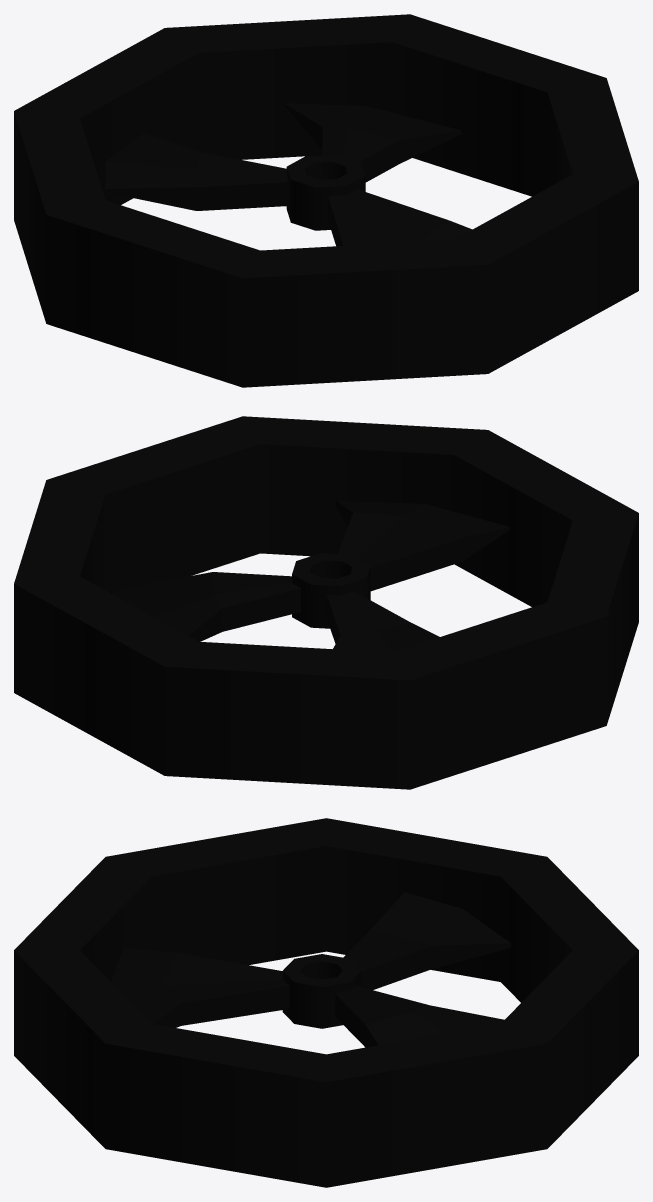
The picture shows the model from 3 angles, top to bottom: view 1: azimuth 30°, elevation 25°; view 2: azimuth 150°, elevation 25°; view 3: azimuth 270°, elevation 25°; orthographic projection. The views are drawn at different scales.
Parts seen in each view (by area): view 1: Tube002, Tube001; view 2: Tube002, Tube001; view 3: Tube002, Tube001.
Part boxes in pixels (x1,y1,x2,y2): Tube002: (14,14,638,387); Tube001: (105,103,472,246); Tube002: (14,416,638,789); Tube001: (111,501,510,652); Tube002: (14,818,638,1187); Tube001: (111,892,511,1047).
Bounding box in the file's own units: 4640 × 4640 × 864.
